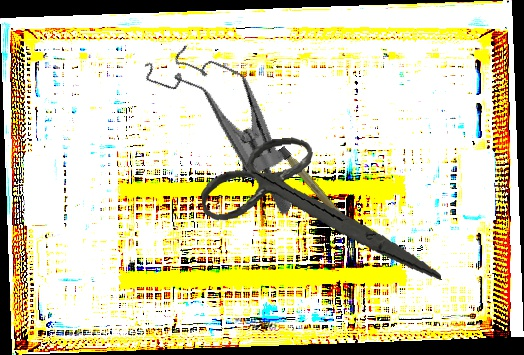Iris Scissors: (196, 123, 442, 304)
Scalpel Handle: (277, 145, 362, 242)
Speculum: (111, 30, 335, 219)
